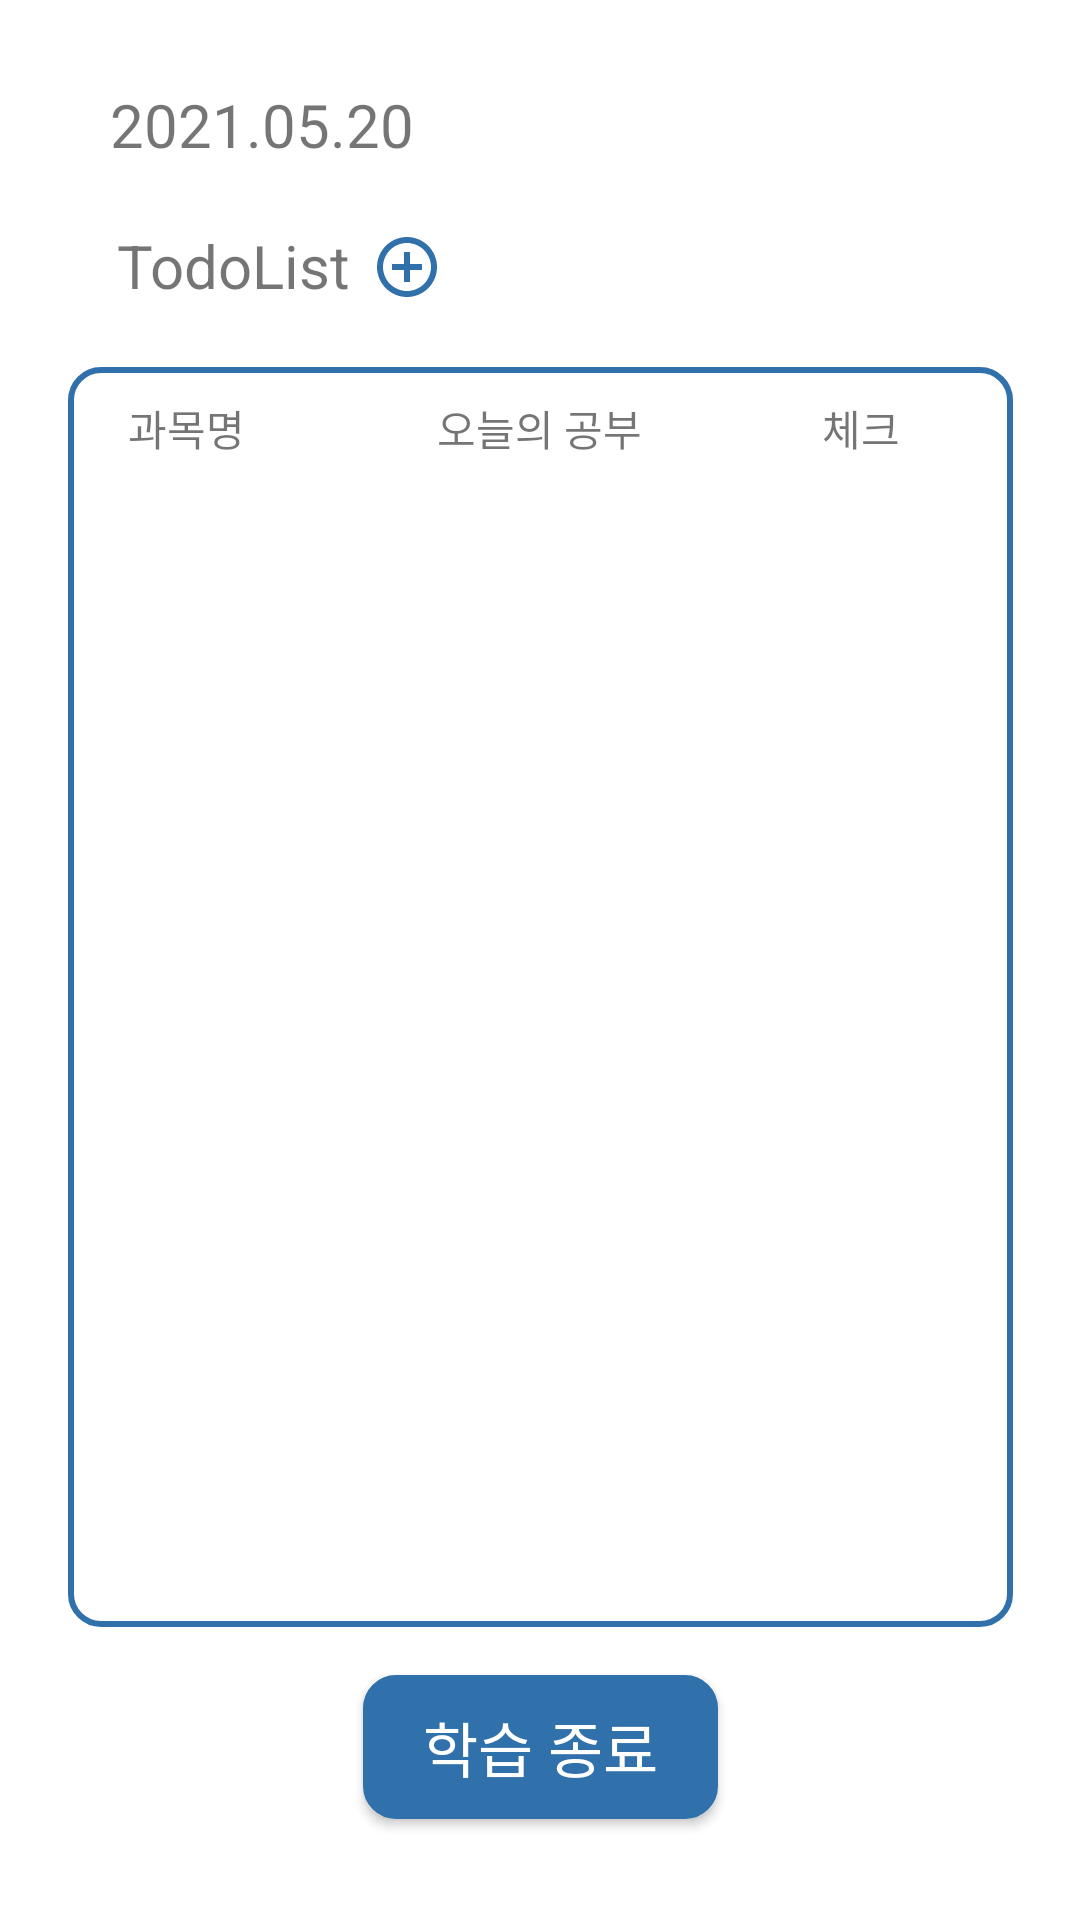

Screen size 1080×1920. Icon name, then its box in pixels as (x1, y1, x2, y2):
add circle: (377, 237, 437, 297)
